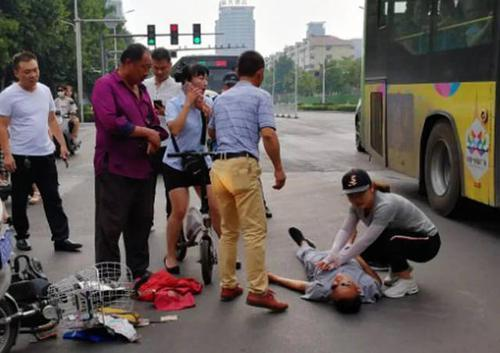Fall-Detected: (266, 221, 387, 313)
